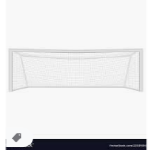goals: (6, 46, 150, 96)
